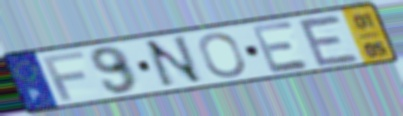9: (87, 44, 144, 96)
E: (294, 13, 364, 69), (248, 18, 314, 75)
F: (40, 49, 88, 102)
N: (141, 34, 208, 91)
O: (197, 30, 249, 80)
